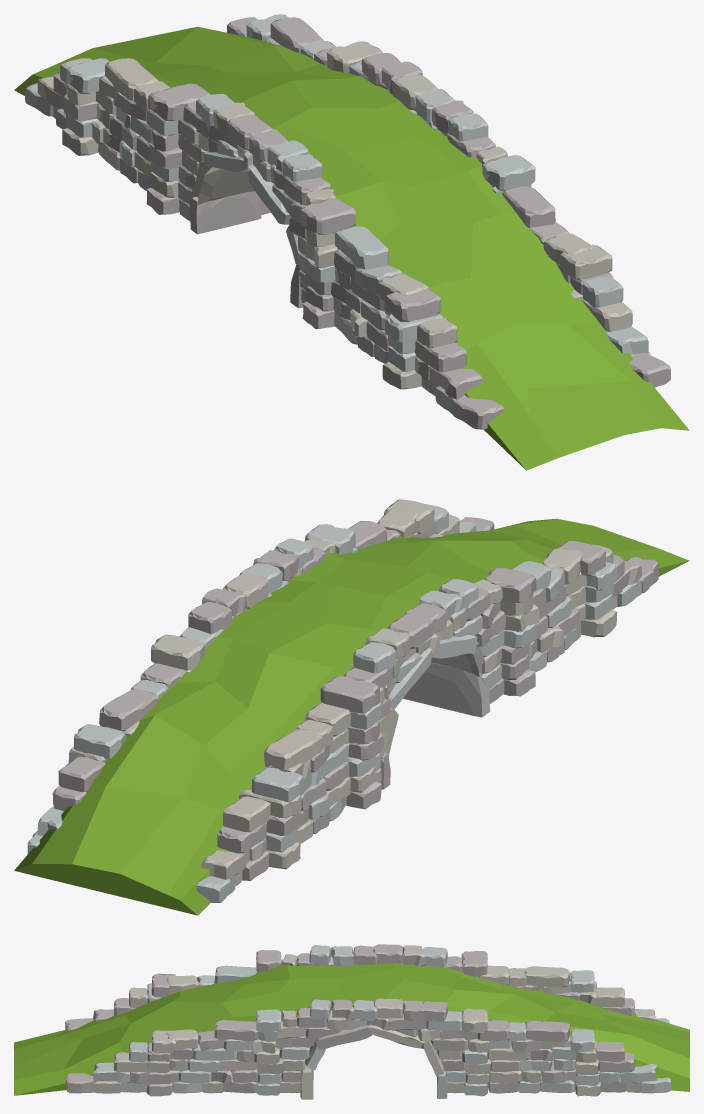
Rendered from Bridge_-_LowPoly.fbx.
3 views of the same model, one above another, from view 1: azimuth 30°, elevation 25°; view 2: azimuth 150°, elevation 25°; view 3: azimuth 270°, elevation 25° (orthographic). The views are drawn at different scales.
Parts seen in each view (by area): view 1: Cube, Brick4.000, Brick3.085, Brick4.001, Brick3.066, Brick3.177, Brick3.178, Brick3.089, Brick3.033, Brick3.190, Brick3.013, Brick3.145 (+27 smaller); view 2: Cube, Brick4.010, Brick3.013, Brick3.033, Brick3.145, Brick3.150, Brick3.012, Brick3.139, Brick3.006, Brick3.066, Brick3.132, Brick3.050 (+26 smaller); view 3: Cube, Brick3.013, Brick3.145, Brick3.178, Brick4.007, Brick3.033, Brick3.150, Brick3.006, Brick3.205, Brick4.005, Brick3.085, Brick3.177 (+88 smaller).
Boxes of the visible parts, x1=… form: Cube: x1=14, y1=26, x2=689, y2=470; Brick4.000: x1=189, y1=191, x2=261, y2=234; Brick3.085: x1=335, y1=226, x2=388, y2=269; Brick4.001: x1=191, y1=161, x2=254, y2=205; Brick3.066: x1=300, y1=199, x2=355, y2=234; Brick3.177: x1=482, y1=155, x2=535, y2=190; Brick3.178: x1=502, y1=185, x2=555, y2=227; Brick3.089: x1=385, y1=288, x2=441, y2=321; Brick3.033: x1=150, y1=83, x2=210, y2=120; Brick3.190: x1=559, y1=244, x2=612, y2=279; Brick3.013: x1=104, y1=58, x2=158, y2=101; Brick3.145: x1=270, y1=17, x2=323, y2=52; Cube: x1=14, y1=518, x2=689, y2=915; Brick4.010: x1=403, y1=662, x2=490, y2=717; Brick3.013: x1=263, y1=729, x2=322, y2=771; Brick3.033: x1=320, y1=676, x2=379, y2=713; Brick3.145: x1=99, y1=689, x2=158, y2=731; Brick3.150: x1=151, y1=634, x2=205, y2=670; Brick3.012: x1=251, y1=767, x2=303, y2=802; Brick3.139: x1=74, y1=724, x2=125, y2=759; Brick3.006: x1=223, y1=796, x2=270, y2=832; Brick3.066: x1=484, y1=567, x2=536, y2=603; Brick3.132: x1=58, y1=756, x2=105, y2=791; Brick3.050: x1=353, y1=642, x2=396, y2=673; Cube: x1=14, y1=962, x2=689, y2=1095; Brick3.013: x1=524, y1=966, x2=570, y2=987; Brick3.145: x1=525, y1=1020, x2=569, y2=1041; Brick3.178: x1=214, y1=1020, x2=258, y2=1041; Brick4.007: x1=316, y1=1024, x2=372, y2=1049; Brick3.033: x1=461, y1=951, x2=487, y2=976; Brick3.150: x1=461, y1=1008, x2=487, y2=1032; Brick3.006: x1=596, y1=987, x2=624, y2=1007; Brick3.205: x1=93, y1=1062, x2=130, y2=1083; Brick4.005: x1=370, y1=1025, x2=425, y2=1048; Brick3.085: x1=214, y1=965, x2=256, y2=983; Brick3.177: x1=256, y1=1009, x2=281, y2=1032.
Bounding box in the file's own units: 218 × 130 × 836.
